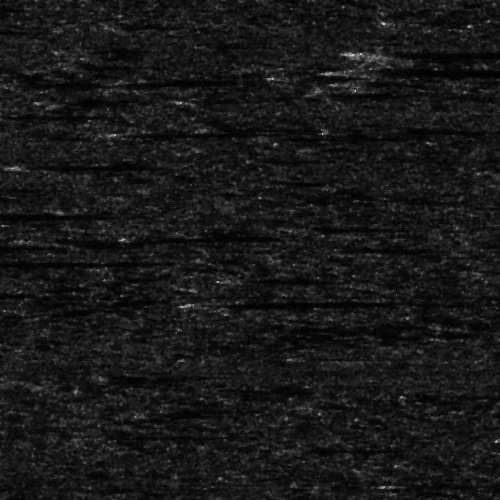object: (271, 63, 428, 76), (69, 126, 142, 137), (302, 87, 375, 96), (351, 46, 392, 59), (461, 170, 500, 183), (128, 408, 181, 417), (9, 234, 62, 243), (118, 232, 159, 239), (361, 480, 392, 487), (346, 78, 387, 83), (0, 79, 29, 84), (0, 161, 19, 168), (188, 300, 209, 305), (101, 373, 122, 378), (220, 277, 251, 280), (80, 433, 111, 436), (280, 354, 311, 357), (0, 112, 24, 115)
shadow: (350, 63, 500, 76), (372, 46, 500, 59), (35, 234, 218, 243), (106, 126, 246, 137), (8, 79, 233, 84), (139, 232, 281, 239), (0, 259, 194, 264), (9, 161, 142, 168), (338, 87, 440, 96), (0, 209, 127, 216), (155, 408, 251, 417), (377, 480, 500, 487), (199, 300, 345, 305), (111, 373, 207, 378), (96, 433, 238, 436), (9, 112, 143, 115), (296, 354, 398, 357), (236, 277, 335, 280), (367, 78, 418, 83), (302, 447, 455, 448), (0, 243, 24, 248)
